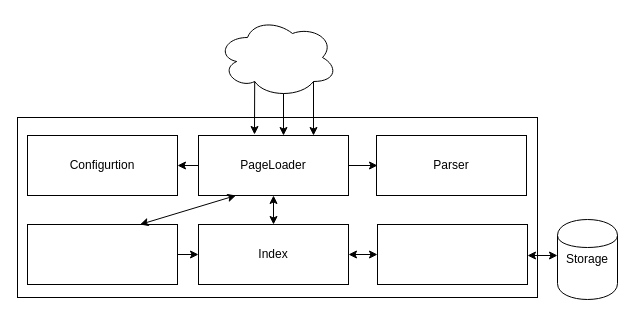
This 635x317 diagram has some shape labels left out. Each missing label, with the centre of its shape:
Application: the point at 102,254
Key-Value Storage Layer: the point at 452,254
WWW: the point at 277,57
